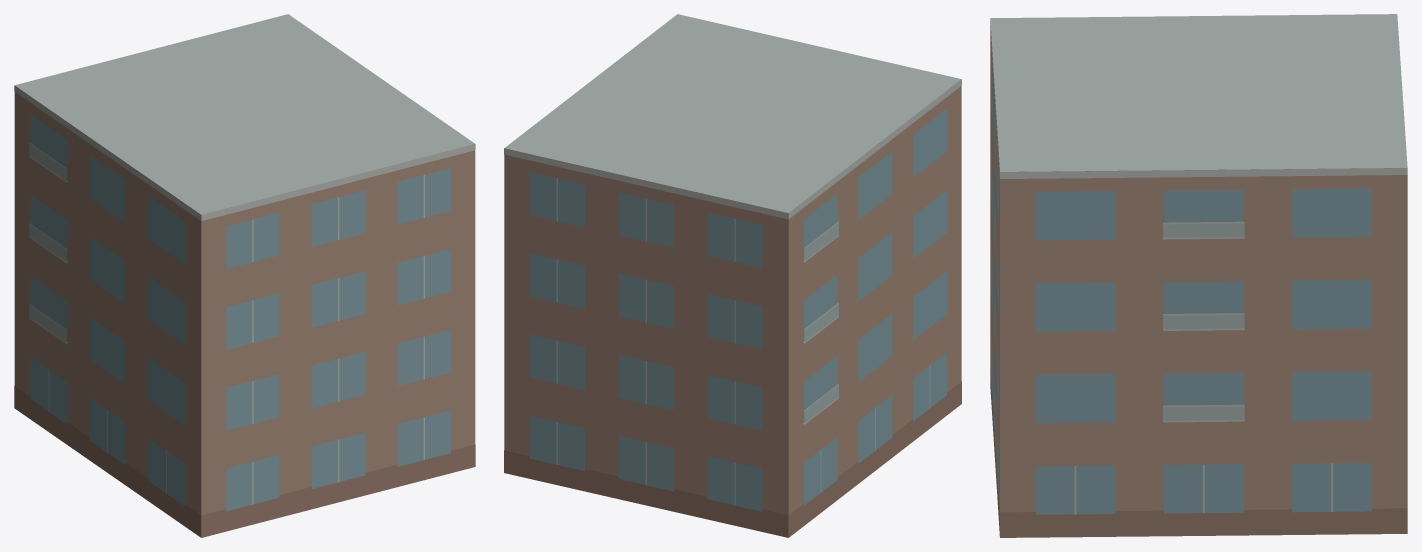
File: survey-upis-32532731.glb
The picture shows the model from 3 angles, left to right: view 1: azimuth 30°, elevation 25°; view 2: azimuth 150°, elevation 25°; view 3: azimuth 270°, elevation 25°; orthographic projection. The views are drawn at different scales.
Parts seen in each view (by area): view 1: survey-upis-32532731.tmp; view 2: survey-upis-32532731.tmp; view 3: survey-upis-32532731.tmp.
Boxes of the visible parts, x1,y1,x2,y2 form: survey-upis-32532731.tmp: (14,14,475,537); survey-upis-32532731.tmp: (504,14,961,537); survey-upis-32532731.tmp: (990,14,1407,537).
Size of the model in its own units: 11.64 by 12.55 by 12.98.
